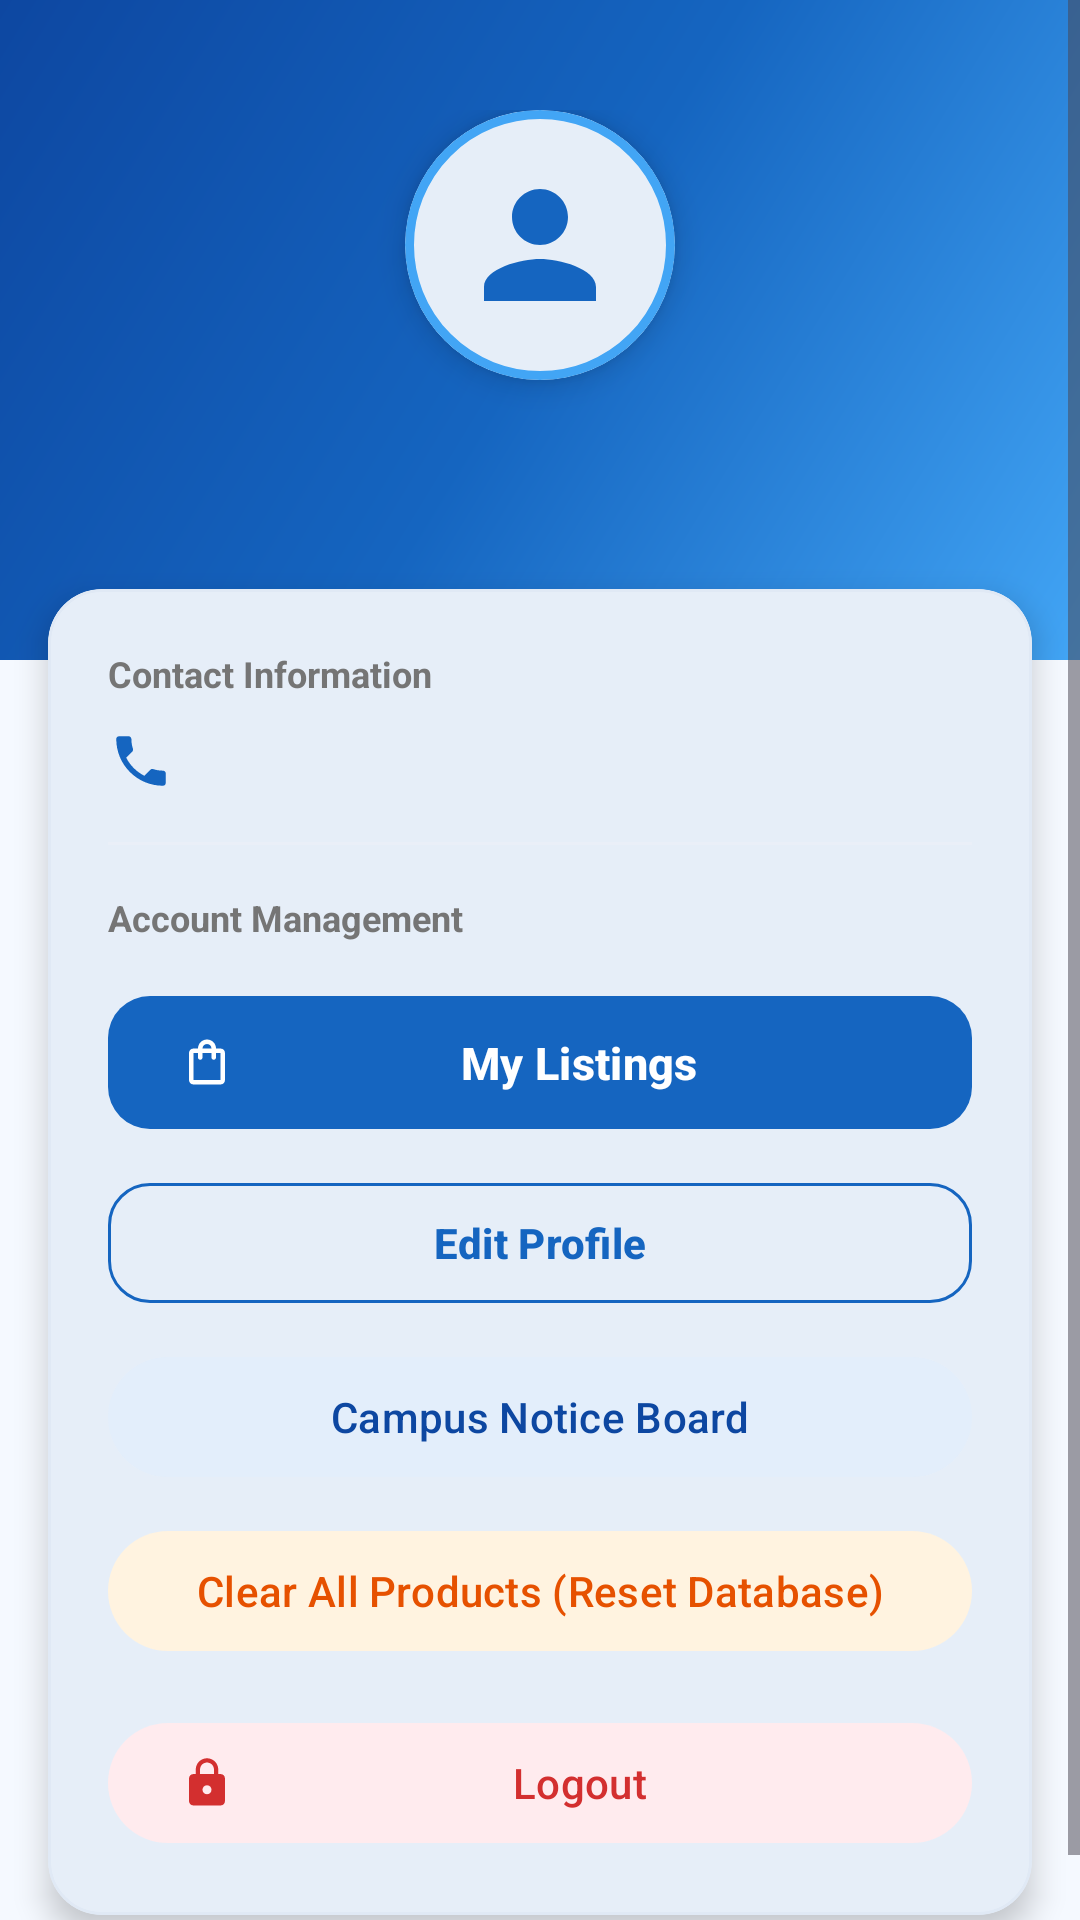

Where to tap for icons on this 1080*1920 app screen, as (x,y):
Phone Number (10 digits): (141,761)
Profile: (540,245)
